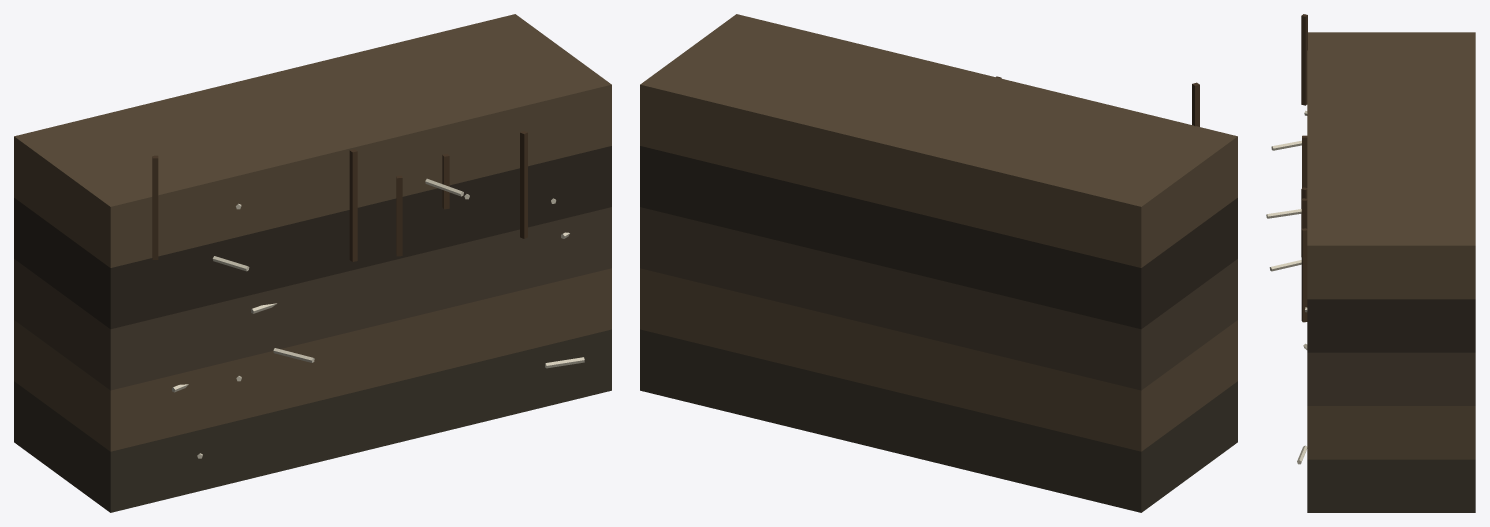
The model's file is s3_tomb_wall.glb.
3 views of the same model, side by side, from view 1: azimuth 30°, elevation 25°; view 2: azimuth 150°, elevation 25°; view 3: azimuth 270°, elevation 25° (orthographic). The views are drawn at different scales.
Parts seen in each view (by area): view 1: s3_tomb_wall; view 2: s3_tomb_wall; view 3: s3_tomb_wall.
Boxes of the visible parts, bbox=[...] form: s3_tomb_wall: bbox=[14, 14, 611, 512]; s3_tomb_wall: bbox=[640, 14, 1237, 512]; s3_tomb_wall: bbox=[1266, 14, 1475, 512].
Bounding box in the file's own units: 6 × 3.96 × 2.48.
